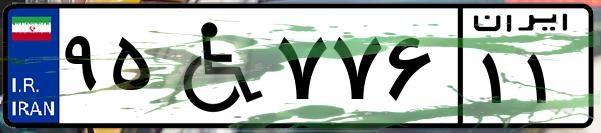1: (475, 38, 525, 113), (525, 38, 570, 115)
5: (110, 28, 158, 98)
6: (385, 28, 445, 110)
7: (270, 28, 330, 110), (330, 28, 385, 110)
9: (57, 26, 110, 100)
ژ (معلولین و جانبازان): (158, 12, 270, 120)
